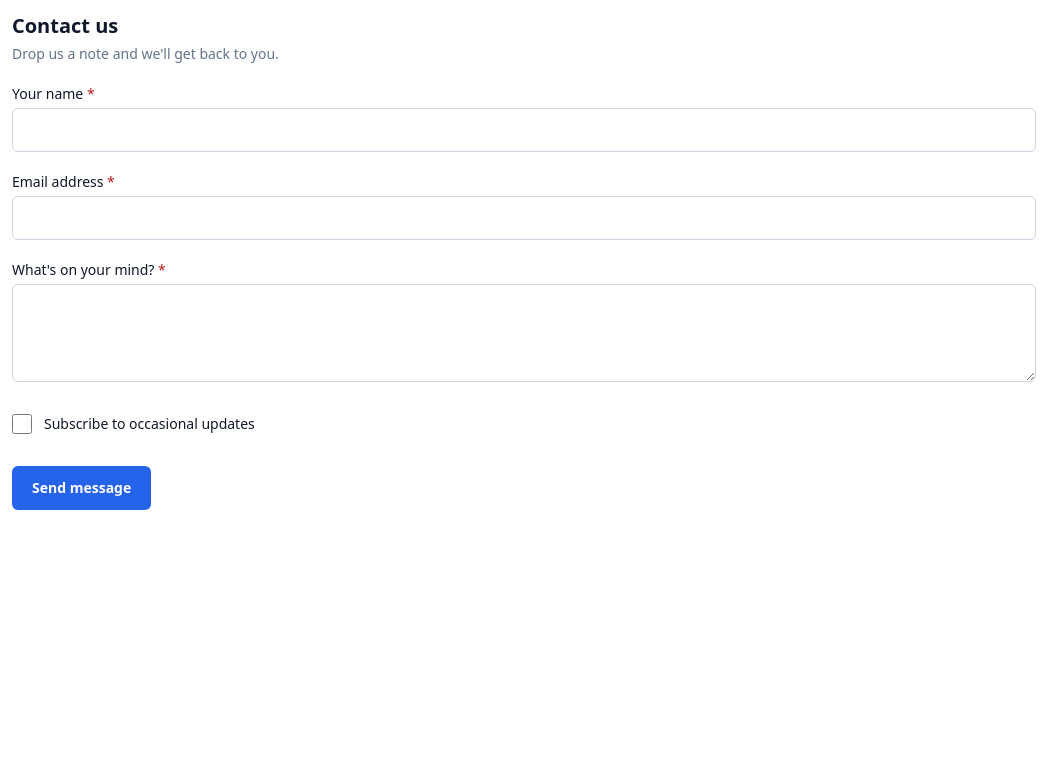
Test: FixedContactForm live region › conveys success with text + icon + live-region announcement (not color alone)
Step 1. Type "Ada Lovelace" into the field labelled "Your name *" → (524, 130), box top-left (12, 108), bottom-right (1036, 152)
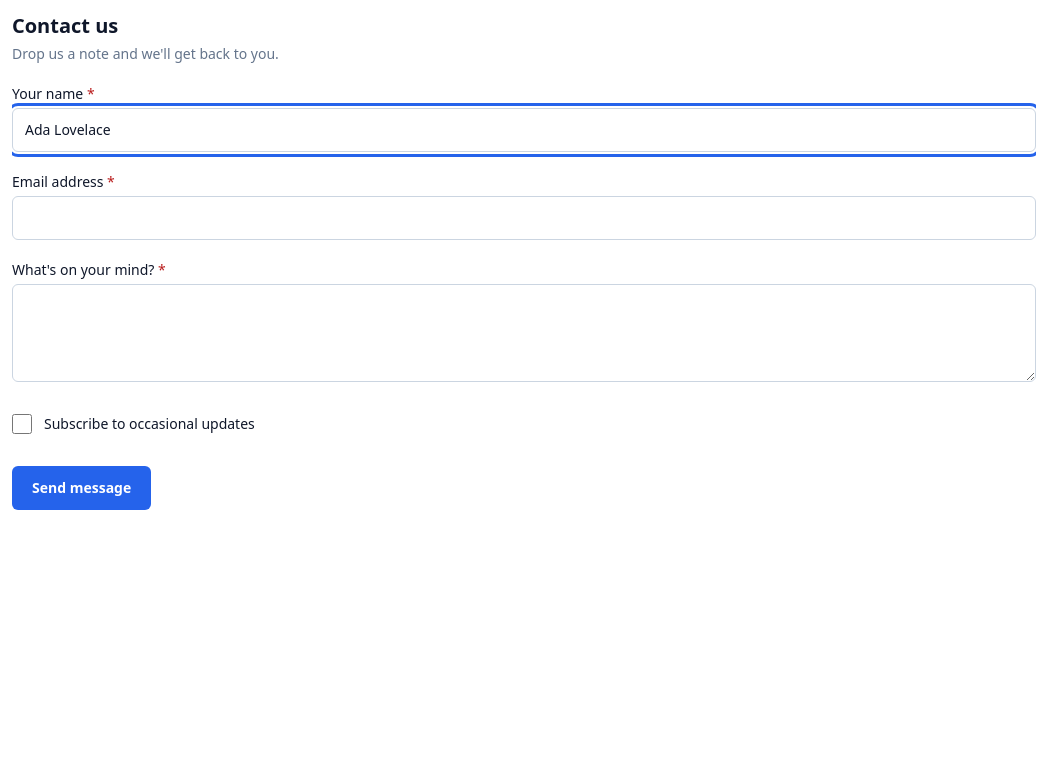
Step 2. Type "ada@example.com" into the field labelled "Email address *" → (524, 218), box top-left (12, 196), bottom-right (1036, 240)
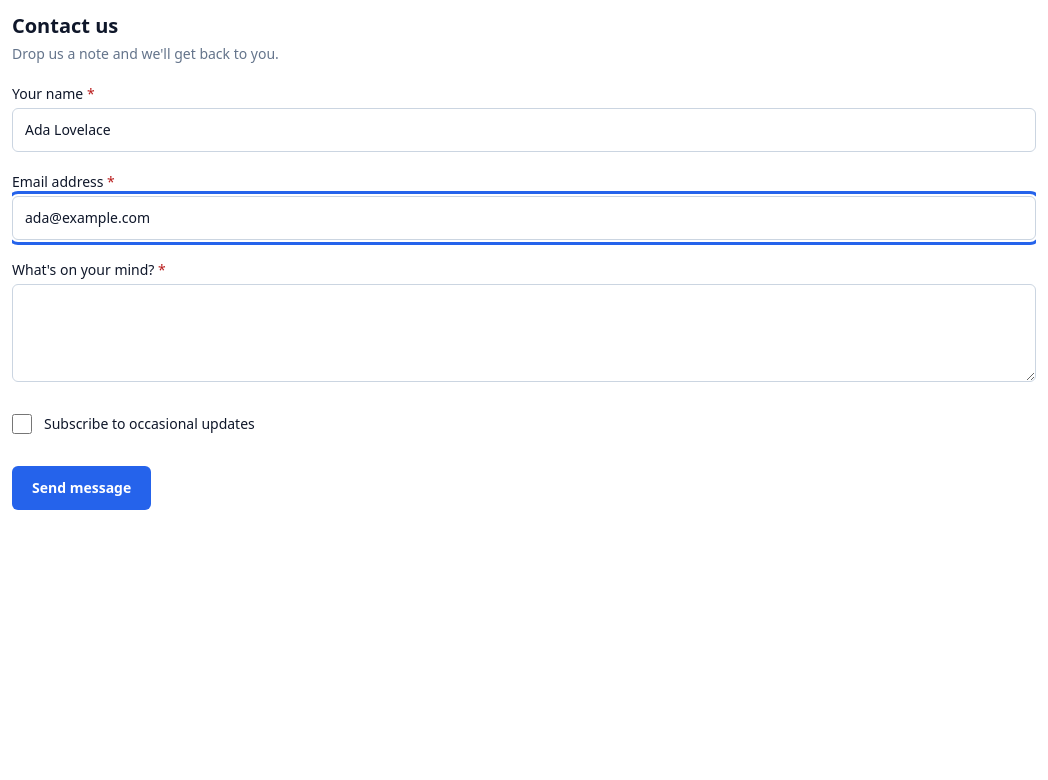
Step 3. Type "Hello there!" into the text box labelled "What's on your mind? *" → (524, 333), box top-left (12, 284), bottom-right (1036, 382)
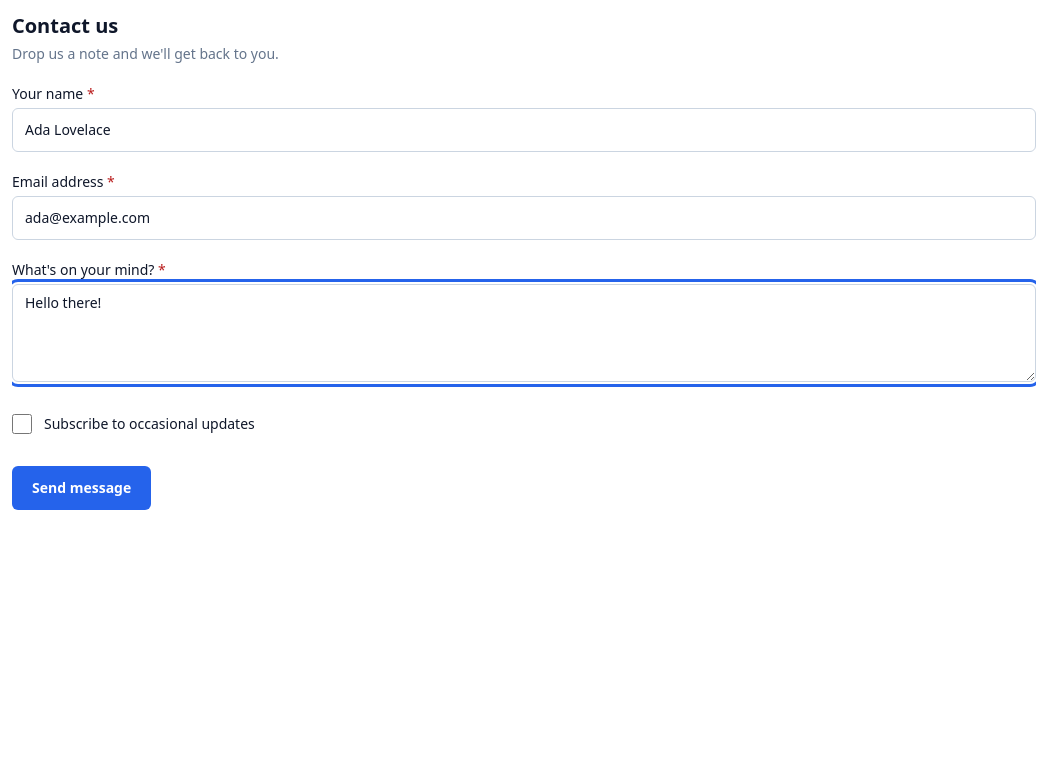
Step 4. Click the button with test id "fixed-submit" → click(82, 488), box top-left (12, 466), bottom-right (151, 510)
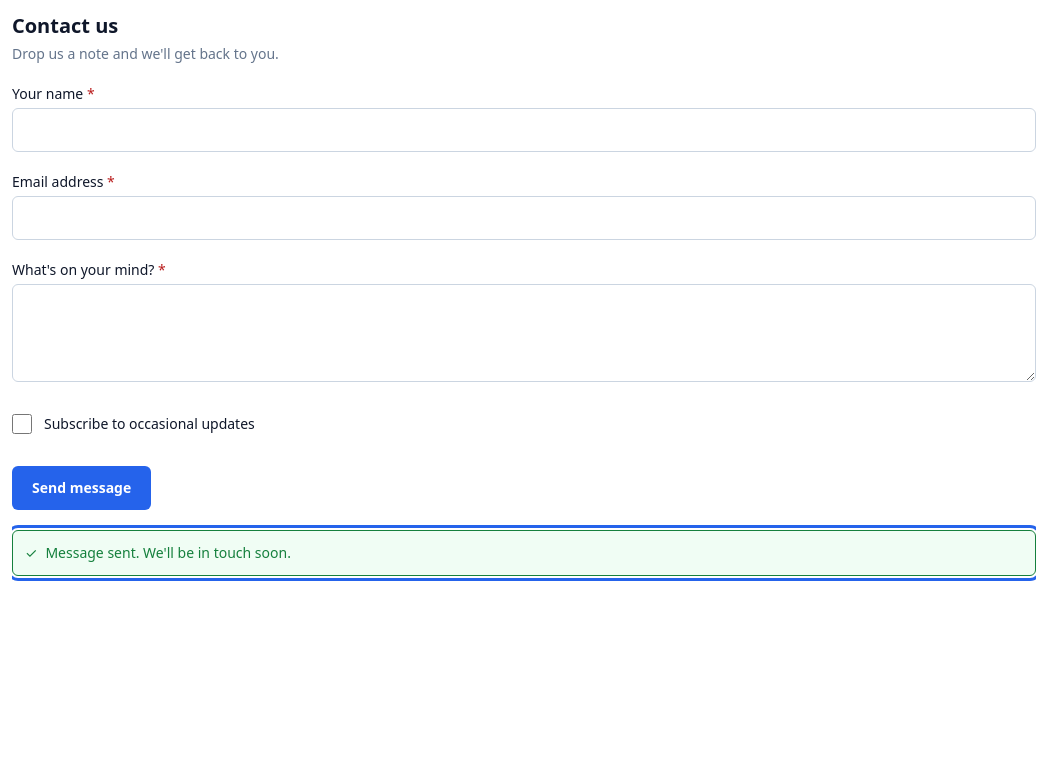
Result: the message with test id "fixed-status" shows "Message sent" at top-left (45, 543), bottom-right (291, 562)
